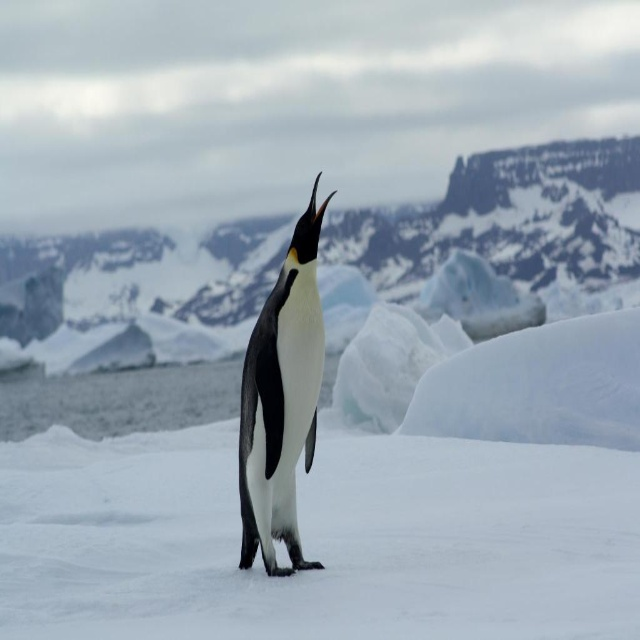Penguin: (237, 173, 336, 575)
